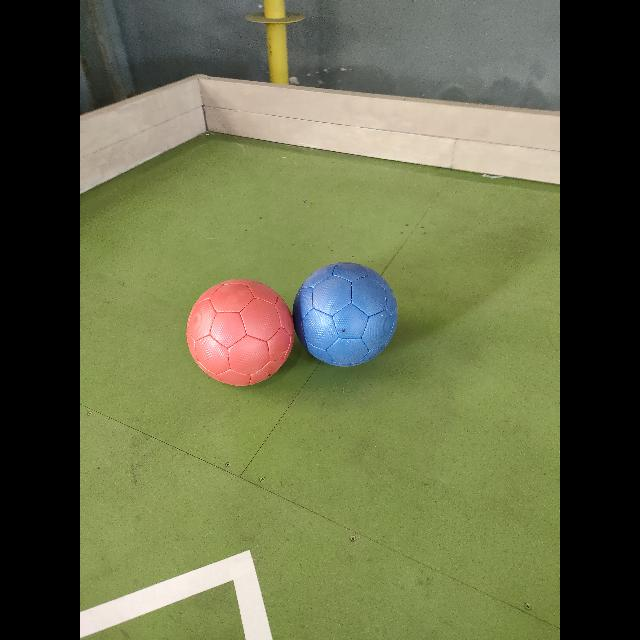B: (293, 262, 397, 368)
R: (184, 276, 298, 390)
